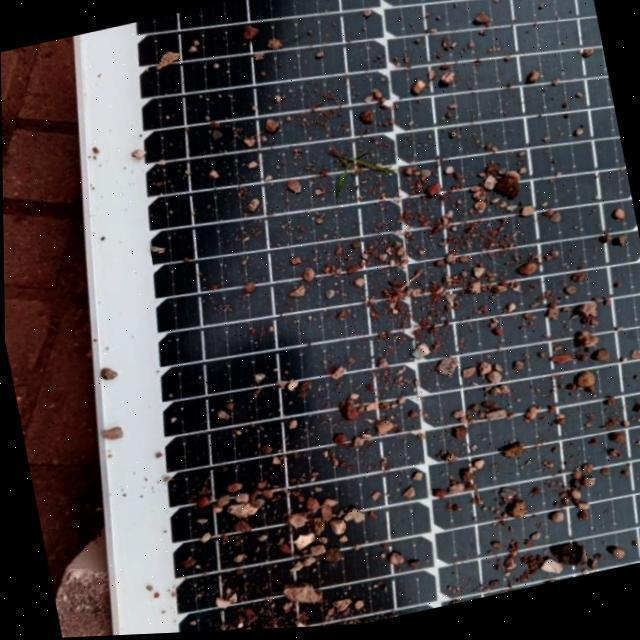Surface Contaminant: (89, 0, 640, 633)
